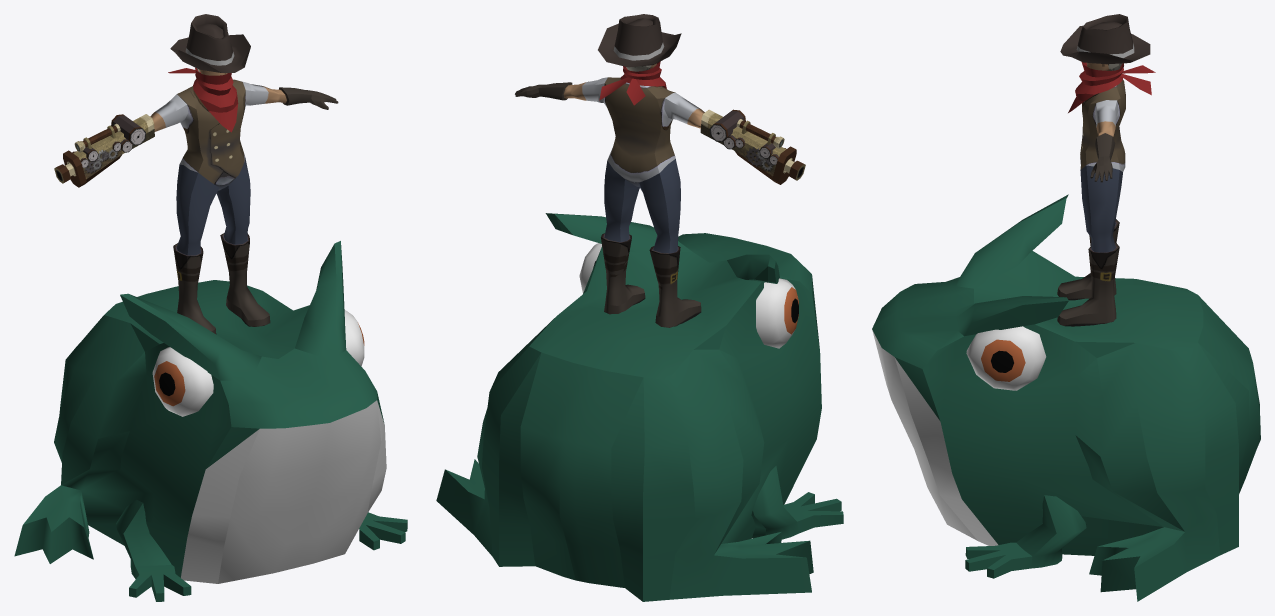
File: Frog rider.fbx
The picture shows the model from 3 angles, left to right: view 1: azimuth 30°, elevation 25°; view 2: azimuth 150°, elevation 25°; view 3: azimuth 270°, elevation 25°; orthographic projection. The views are drawn at different scales.
Parts seen in each view (by area): view 1: polySurface15; view 2: polySurface15; view 3: polySurface15.
Part boxes in pixels (left/top/right/bottom): polySurface15: left=14, top=14, right=407, bottom=601; polySurface15: left=436, top=14, right=843, bottom=601; polySurface15: left=872, top=14, right=1260, bottom=601.
Bounding box in the file's own units: 175 × 232 × 165.
